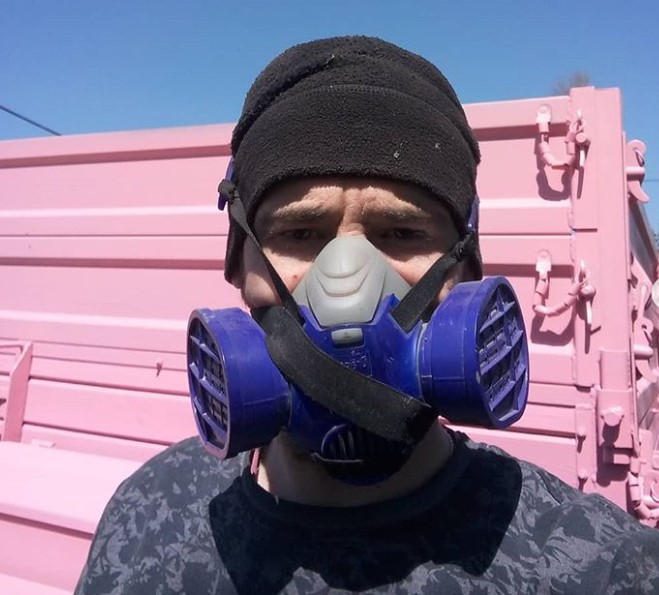face_with_mask: (230, 96, 480, 448)
